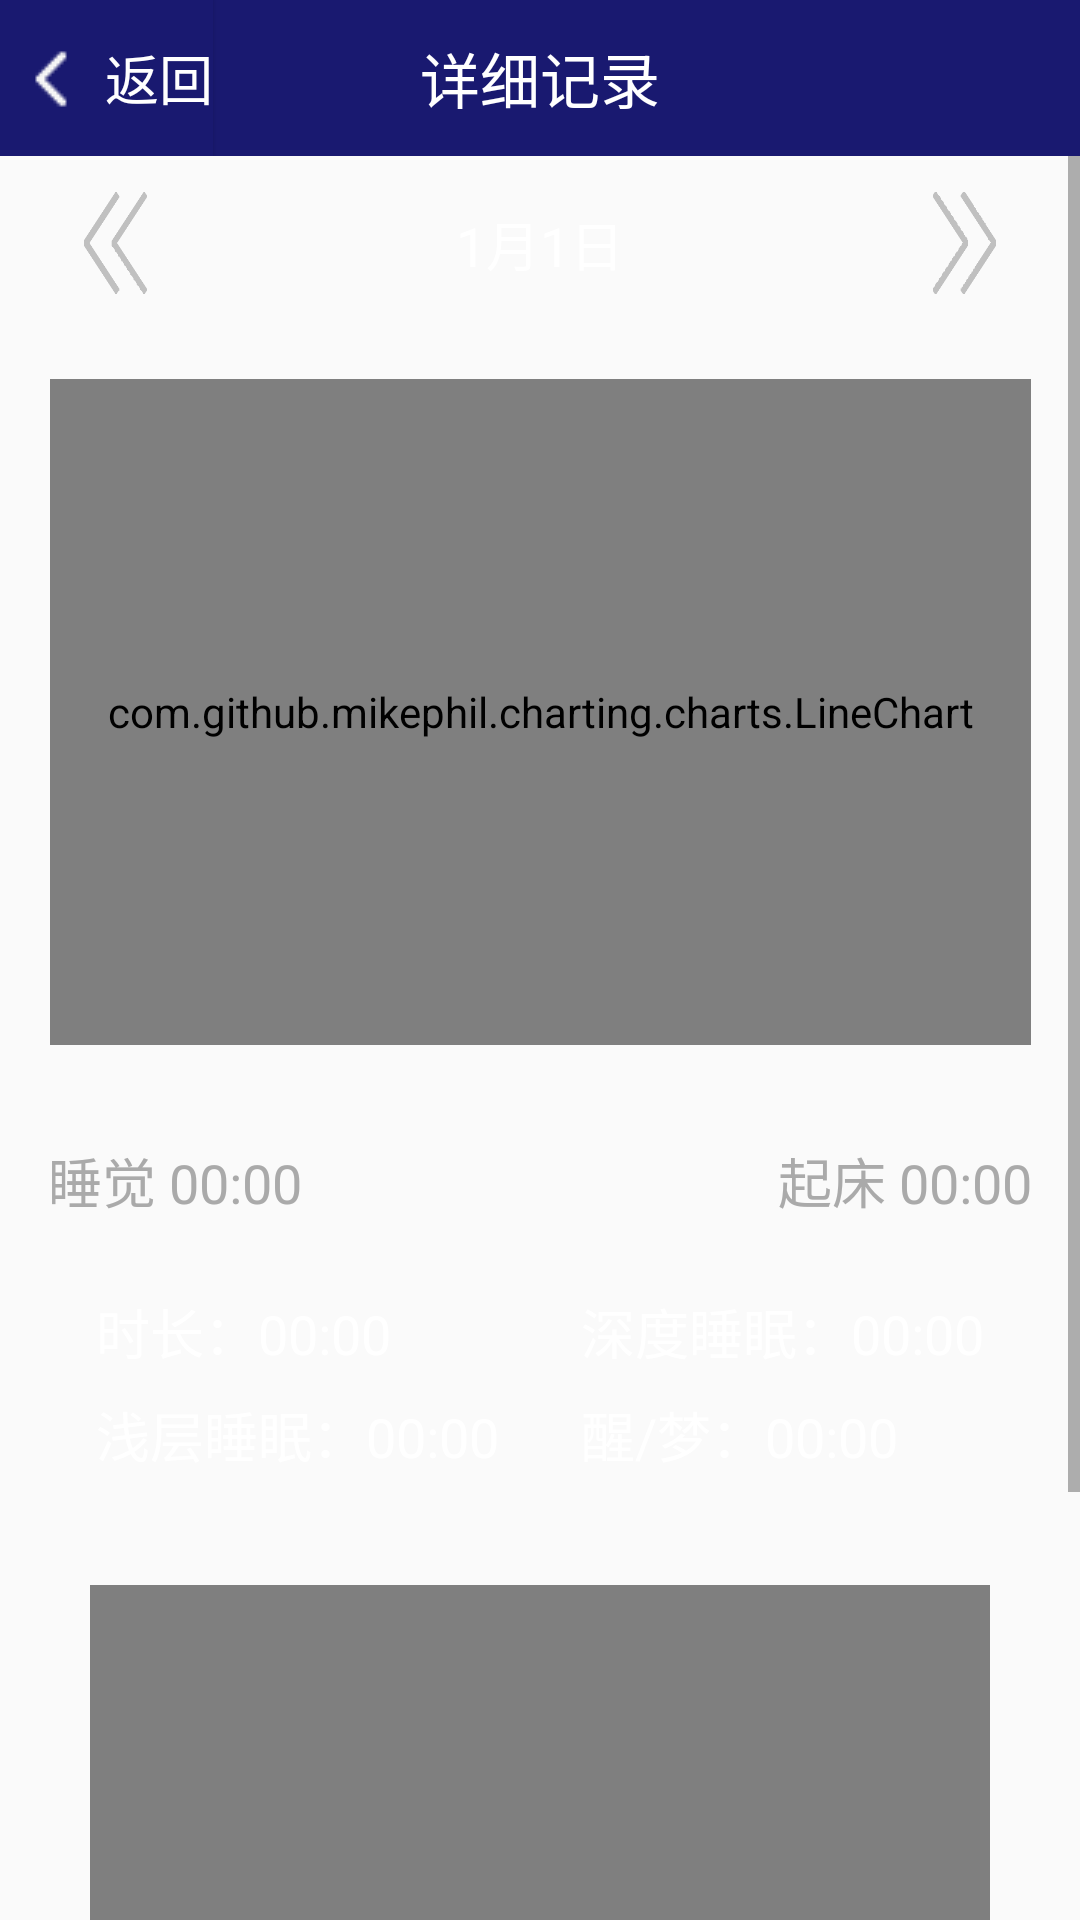

Icon click points for this 1080px×1920px phone screenshot, format (x,y):
arrows left: (115,243)
arrows right: (964,243)
